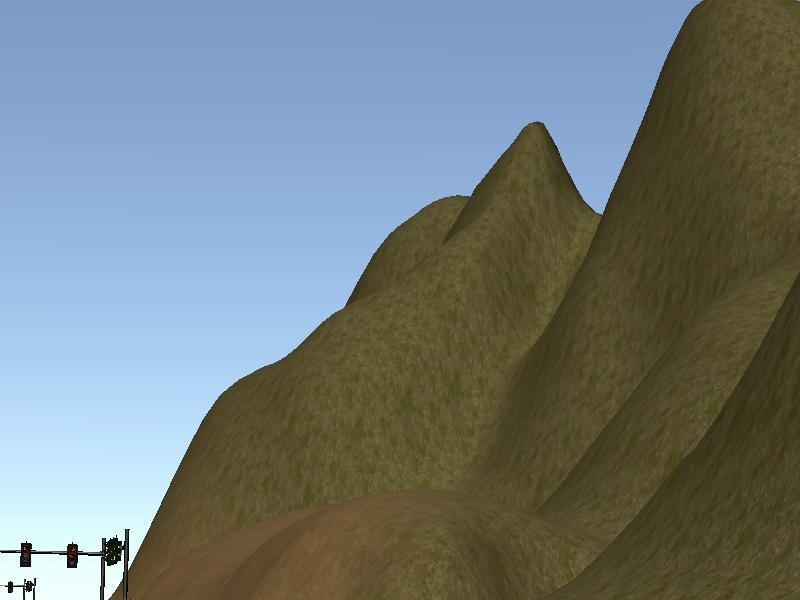traffic_light_red: (1, 540, 104, 570)
